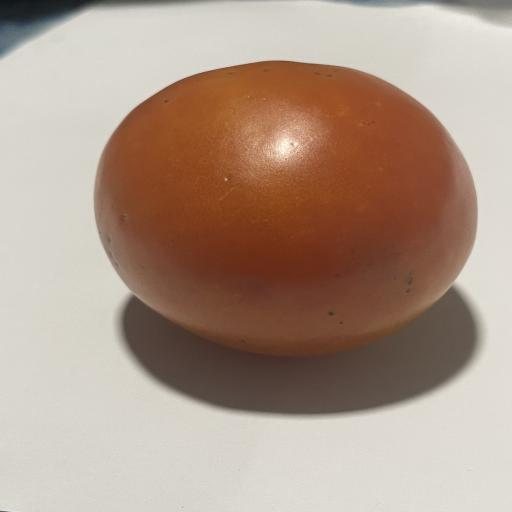unripe: (94, 61, 477, 355)
